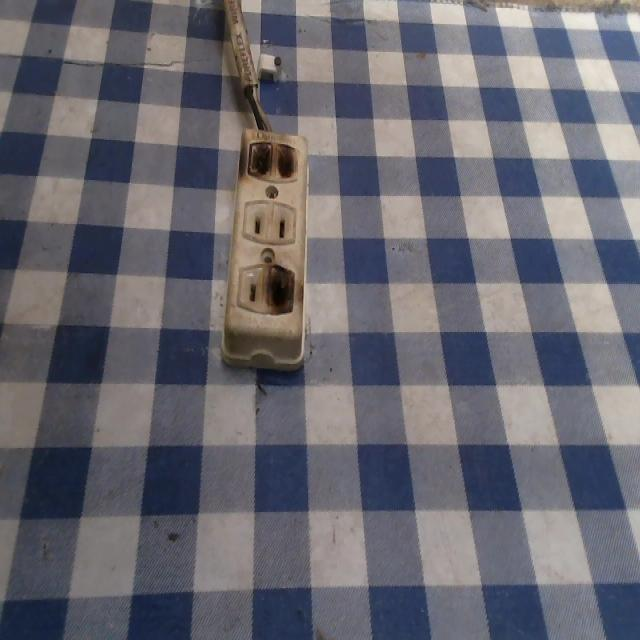-: (232, 132, 303, 183), (260, 260, 304, 317)
